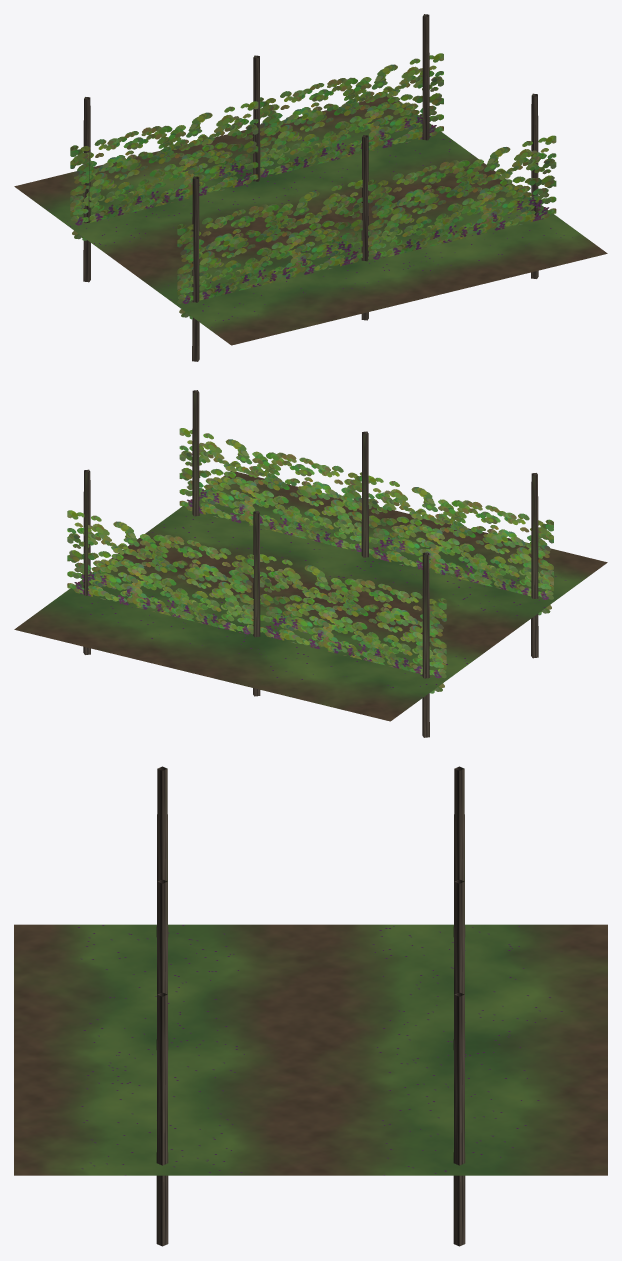
Rendered from Crop_Vine_1.gltf.
The picture shows the model from 3 angles, top to bottom: view 1: azimuth 30°, elevation 25°; view 2: azimuth 150°, elevation 25°; view 3: azimuth 270°, elevation 25°; orthographic projection. The views are drawn at different scales.
Parts seen in each view (by area): view 1: Crop_Vine_1; view 2: Crop_Vine_1; view 3: Crop_Vine_1.
Boxes of the visible parts, x1,y1,x2,y2 form: Crop_Vine_1: (14, 14, 607, 361); Crop_Vine_1: (14, 390, 607, 737); Crop_Vine_1: (14, 766, 607, 1246).
Bounding box in the file's own units: 4 × 1.85 × 4.
Materials: 3 (3 with a texture image).
